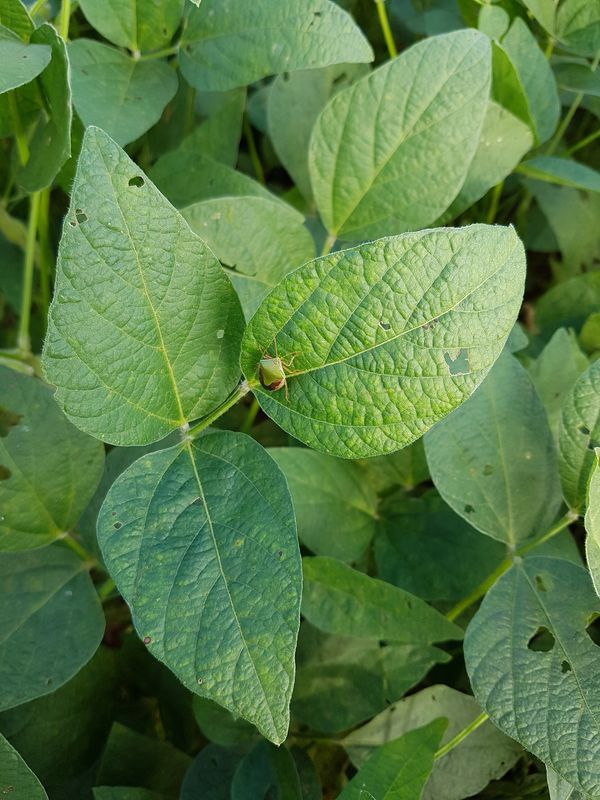Edessa_meditabunda: (248, 334, 304, 403)
